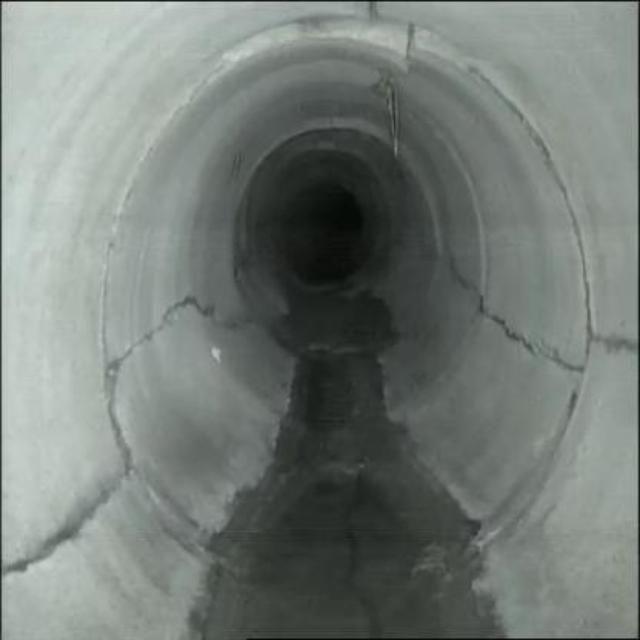Buckling: (375, 20, 425, 97)
Crack: (12, 460, 128, 589), (322, 495, 400, 632), (111, 291, 214, 363), (486, 308, 582, 377), (594, 317, 638, 369)
Joint offset: (226, 2, 366, 72), (429, 28, 535, 108)
